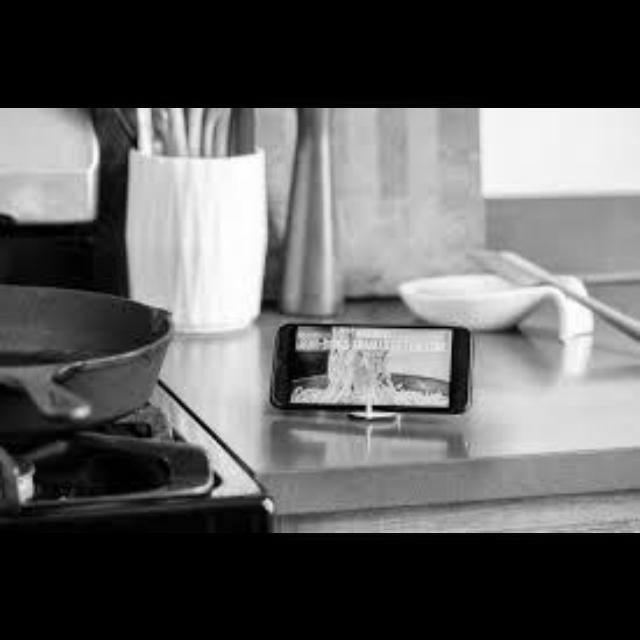fake: (274, 310, 486, 440)
